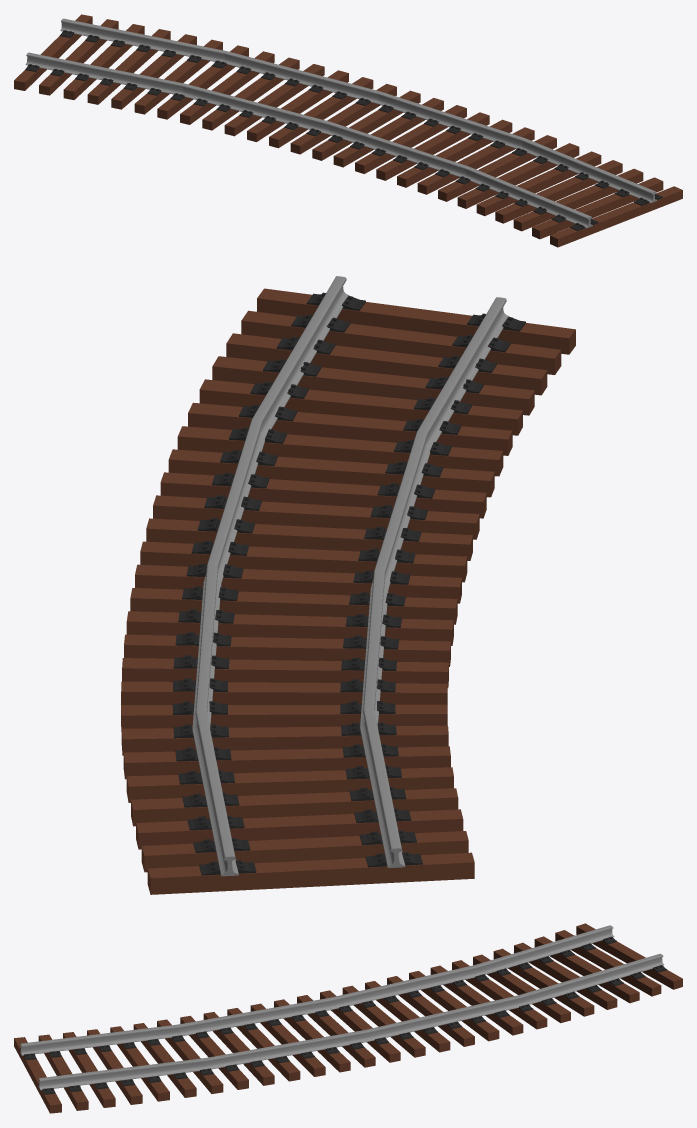
The model's file is TrainTracksCurve.fbx.
3 renders of one model, top to bottom at view 1: azimuth 30°, elevation 25°; view 2: azimuth 150°, elevation 25°; view 3: azimuth 270°, elevation 25°, orthographic. The views are drawn at different scales.
Parts seen in each view (by area): view 1: Planks, Rail, Metal Plates; view 2: Planks, Metal Plates, Rail; view 3: Planks, Rail, Metal Plates.
Part boxes in pixels (<box>): Planks: <box>14,14,682,247</box>; Rail: <box>25,18,657,228</box>; Metal Plates: <box>25,30,662,230</box>; Planks: <box>121,288,575,894</box>; Metal Plates: <box>172,292,525,875</box>; Rail: <box>192,276,509,876</box>; Planks: <box>14,923,682,1113</box>; Rail: <box>20,925,663,1090</box>; Metal Plates: <box>20,936,667,1094</box>.
Size of the model in its own units: 2928 by 138 by 4549.
